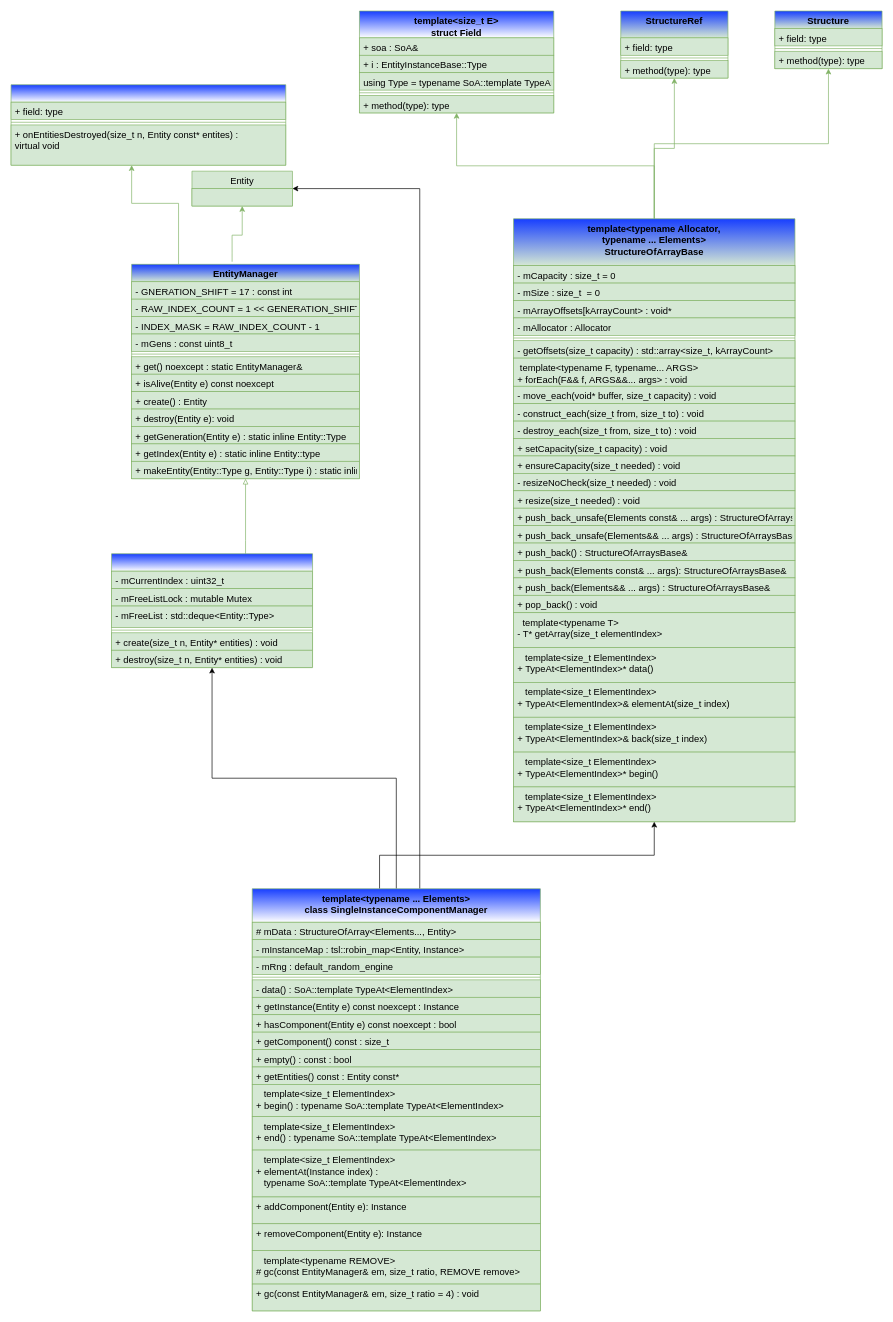
Image size: 893x1322. Some labels were removed from this diagram. The box of each missing label's shape, as (x1, y1, x2, y2) in pixels:
- mIdentity : uint32_t: (191, 188, 292, 206)
EntityManagerImpl: (111, 553, 313, 668)
Listener: (10, 84, 286, 165)
